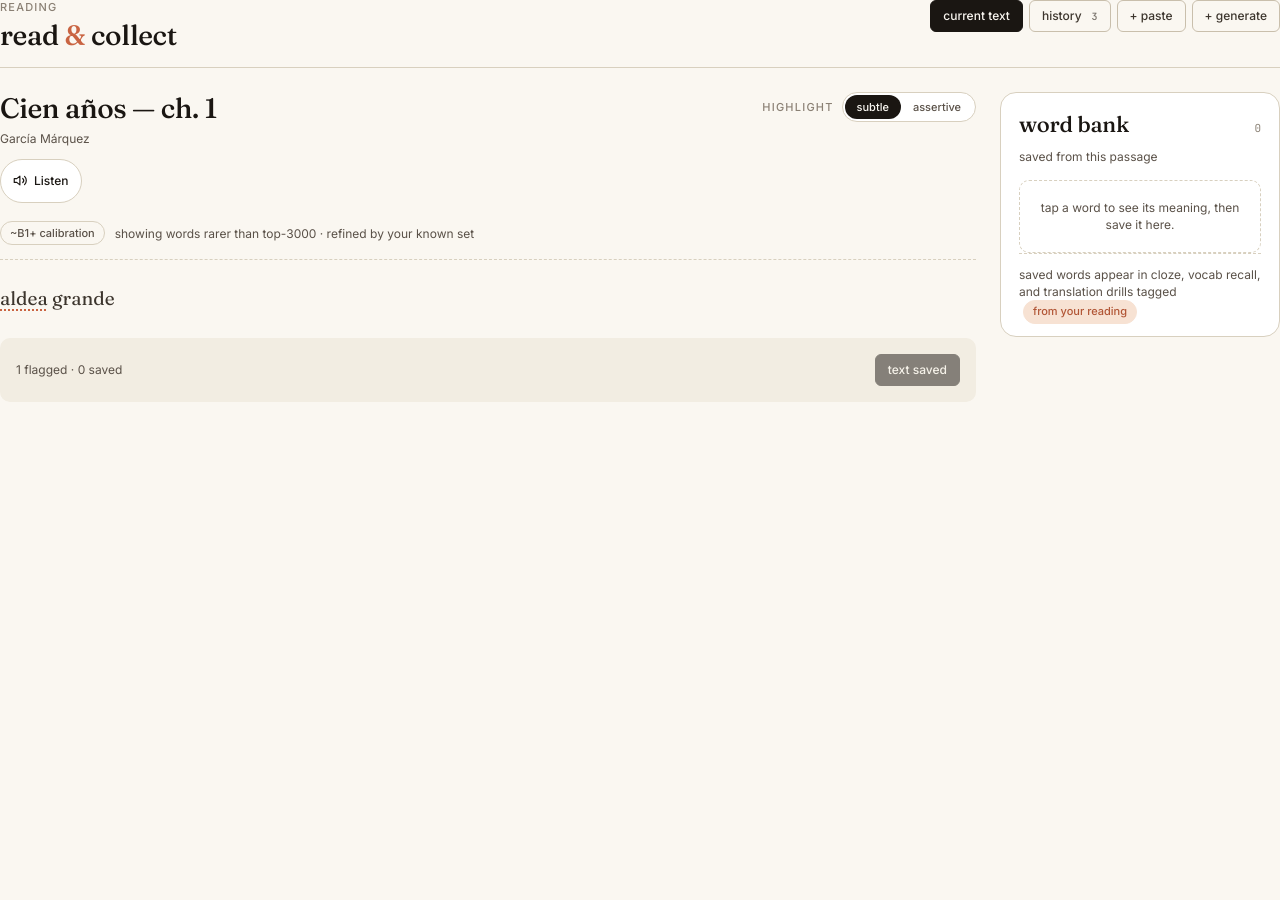
ReadPage — deep annotation flow (Req 3, 9.4, 11) › saving a resolved word card posts it to vocabulary and shows the toast (Req 8.4)
Click the button "aldea". click: {"x": 24, "y": 299}
box: [0,282,48,316]
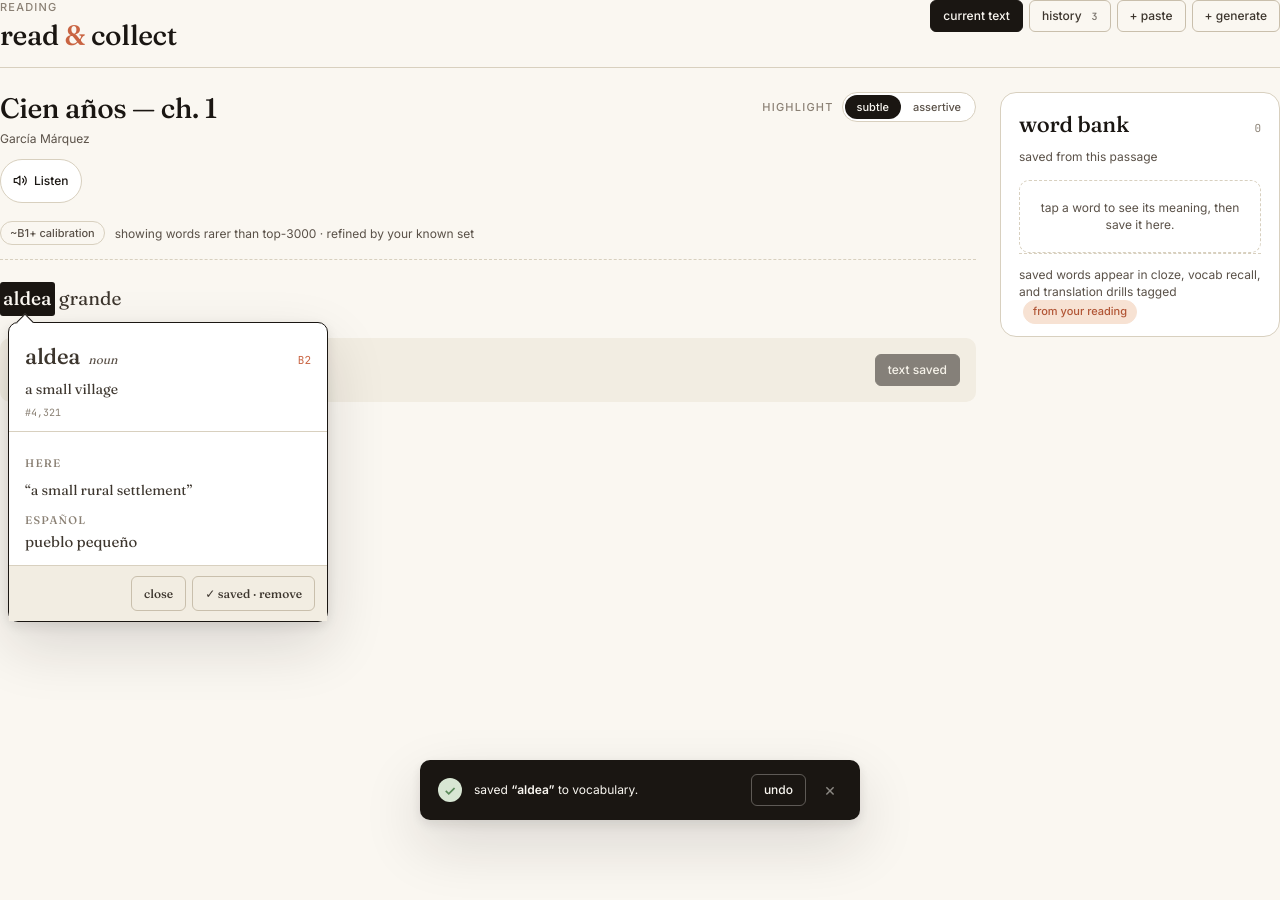
Check: the message reads "✓ saved “aldea” to vocabulary. undo ×", box [420,760,860,820]
Check: the button "✓ saved · remove" is shown, box [192,576,315,611]
